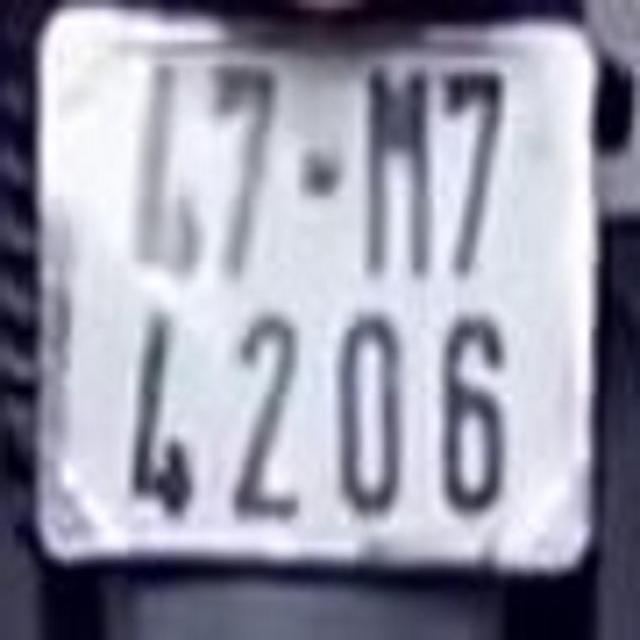0: (327, 297, 412, 529)
2: (229, 297, 311, 530)
4: (120, 52, 209, 306), (117, 318, 202, 532)
6: (437, 292, 522, 527)
7: (206, 60, 286, 294), (438, 53, 516, 284)
M: (351, 45, 436, 306)
